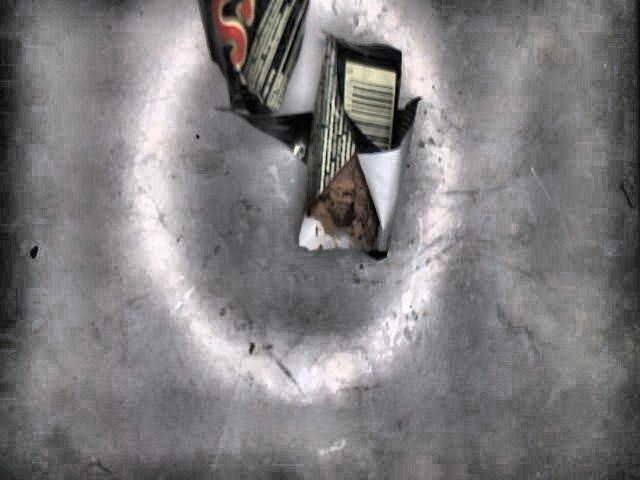Almennt: (305, 155, 381, 253)
Plastic: (194, 0, 421, 262)
